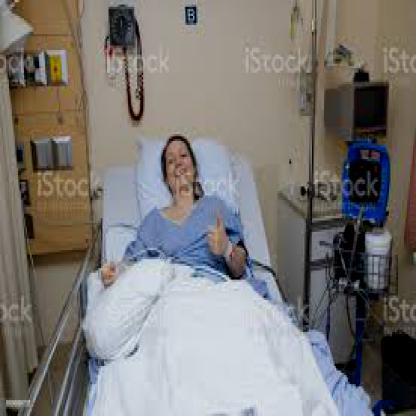Thumbs up: (193, 204, 228, 258)
